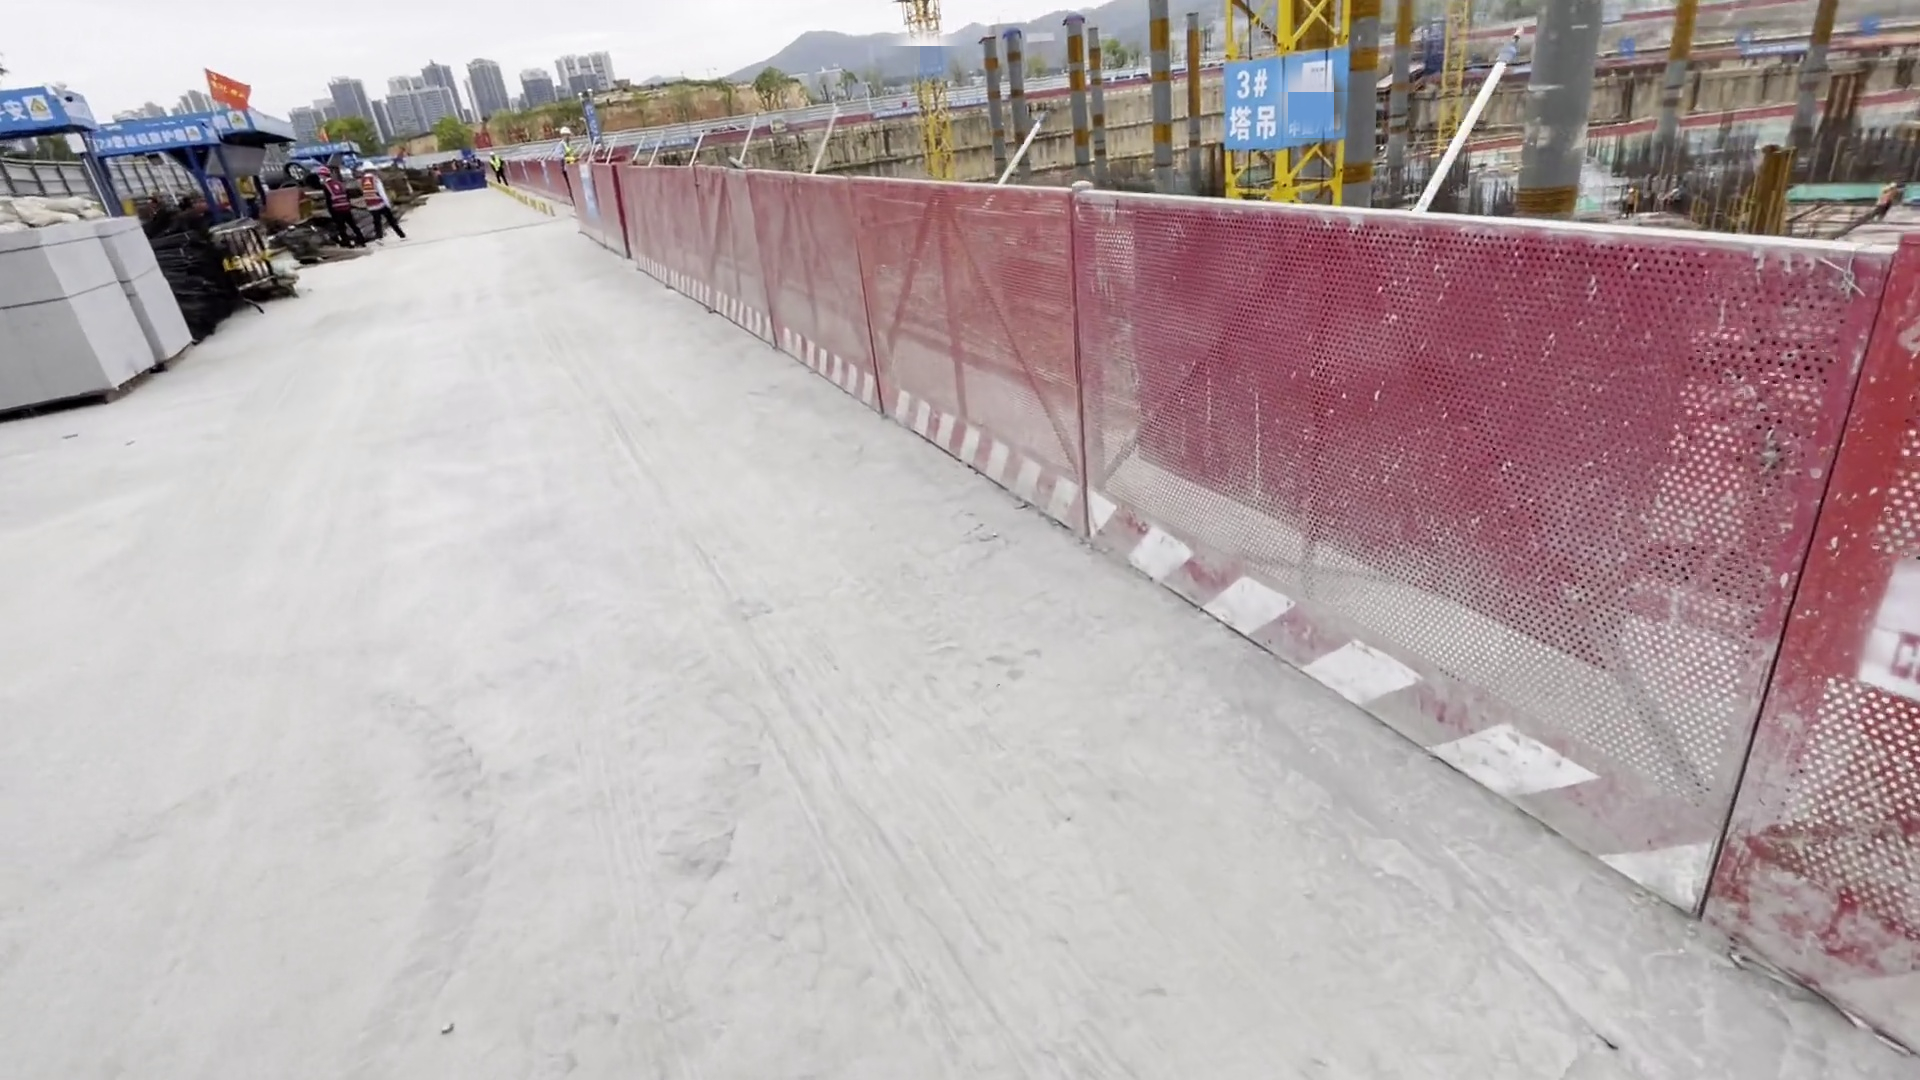helmet: (358, 161, 372, 171), (317, 166, 331, 175), (556, 126, 571, 135)
person: (313, 167, 364, 253), (358, 161, 404, 249), (554, 126, 582, 220), (488, 149, 508, 191)
vest: (360, 176, 391, 213), (325, 176, 349, 213), (490, 159, 501, 171)
